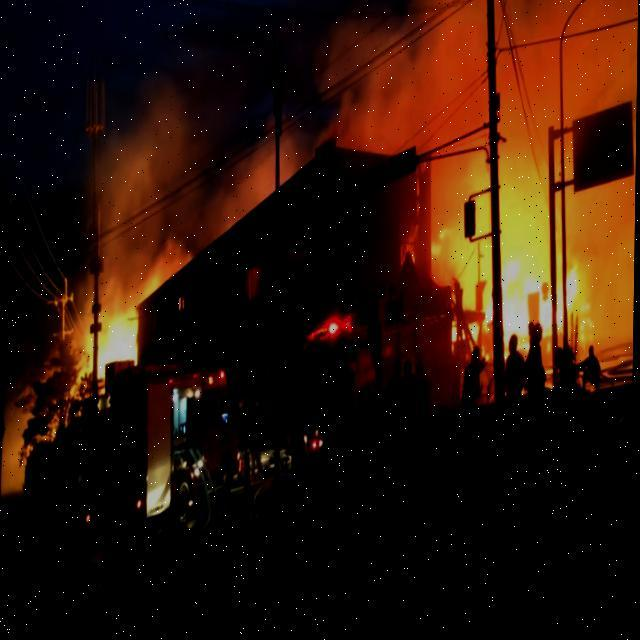Fire: (20, 0, 638, 425), (502, 264, 594, 371), (88, 316, 140, 384)
